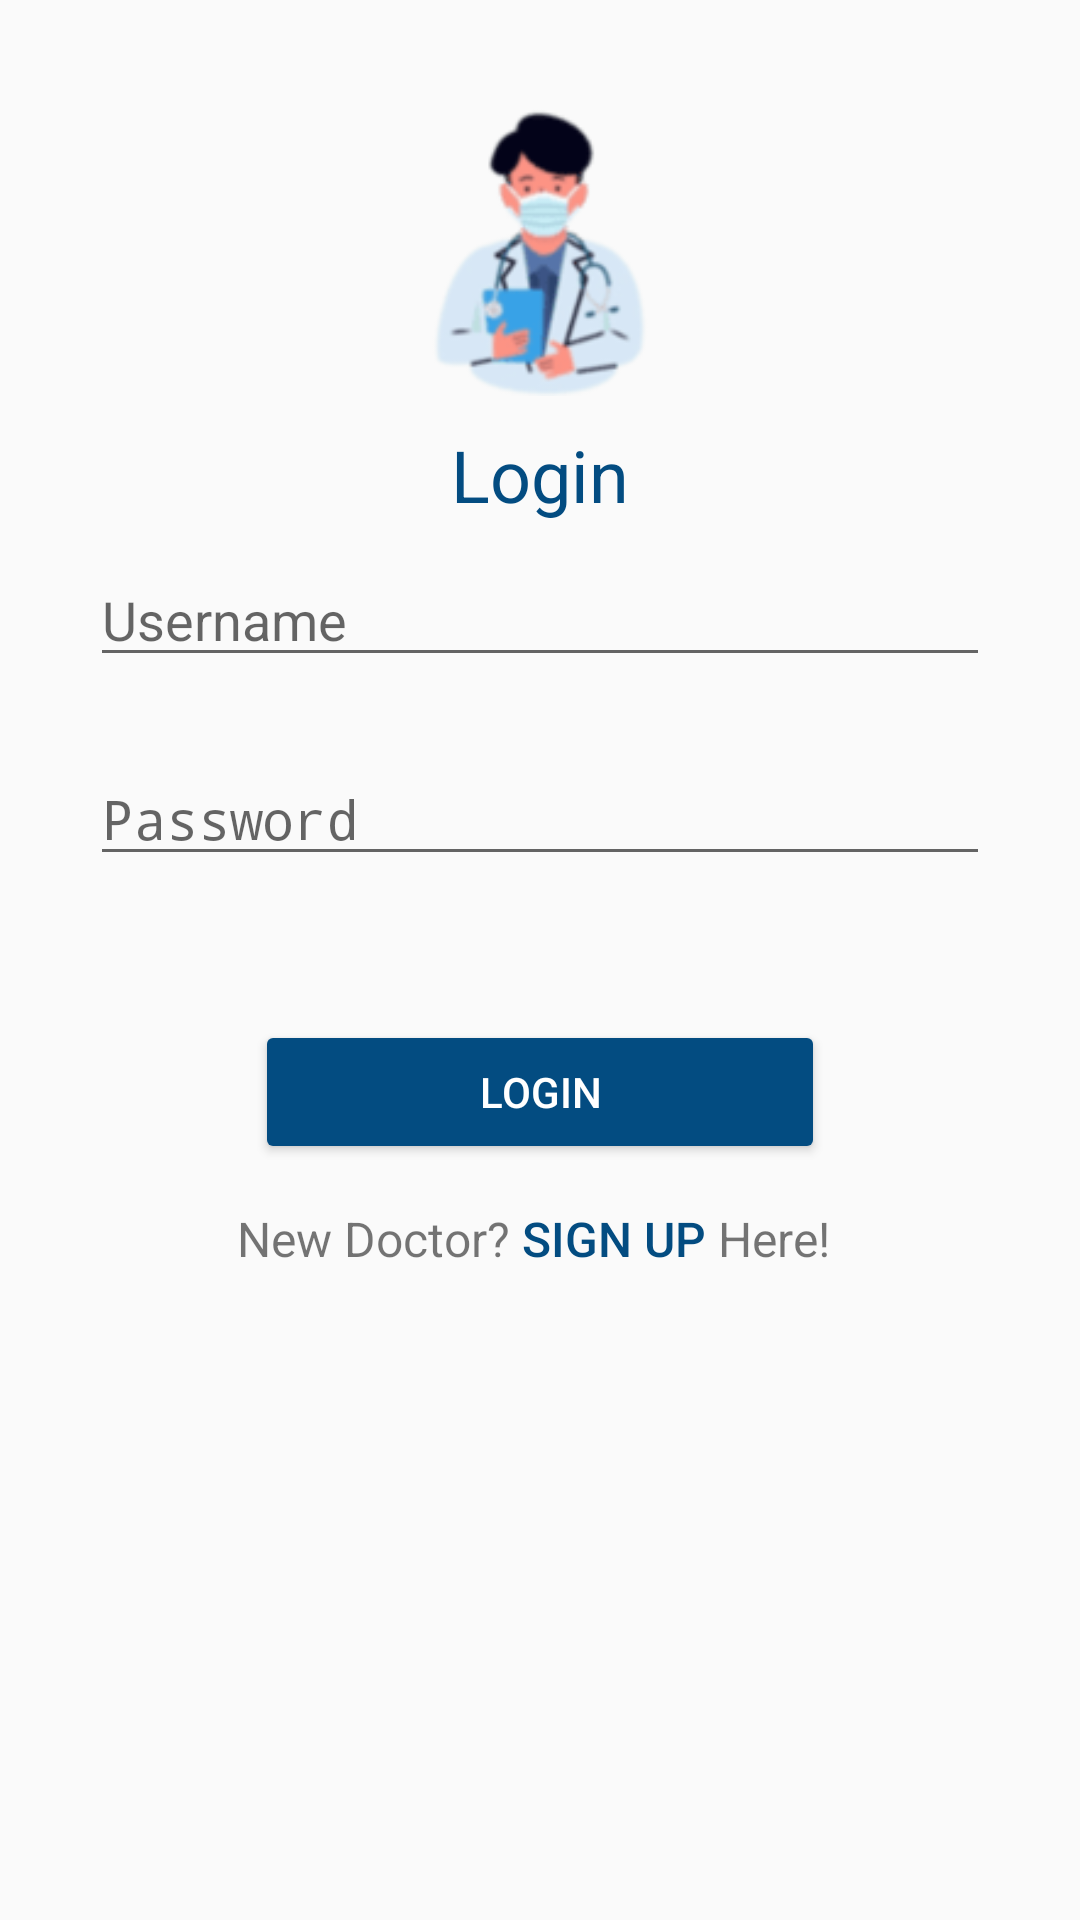

Screen size 1080x1920. Icon name, then its box in pixels as (x1, y1, x2, y2):
doctor: (438, 112, 642, 393)
